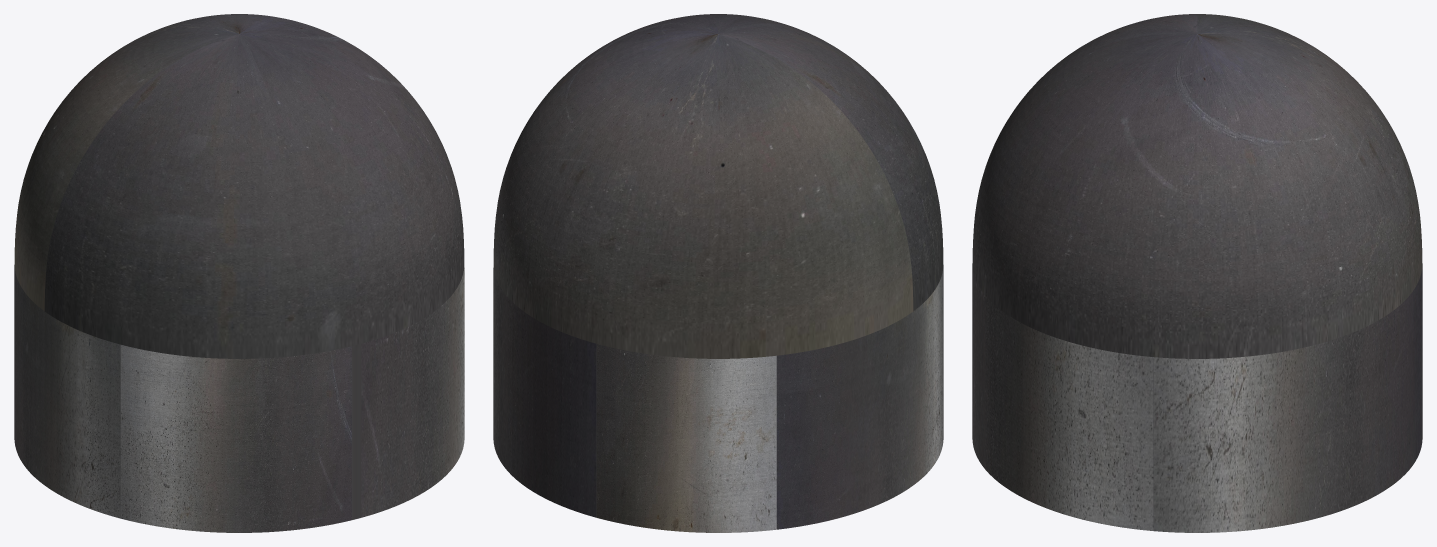
The model's file is cylinder_environment.fbx.
3 renders of one model, left to right at view 1: azimuth 30°, elevation 25°; view 2: azimuth 150°, elevation 25°; view 3: azimuth 270°, elevation 25°, orthographic.
Parts seen in each view (by area): view 1: Sphere; view 2: Sphere; view 3: Sphere.
Boxes of the visible parts, x1,y1,x2,y2 form: Sphere: (14, 14, 464, 532); Sphere: (493, 14, 943, 532); Sphere: (972, 14, 1422, 532).
Bounding box in the file's own units: 205 × 203 × 205.
